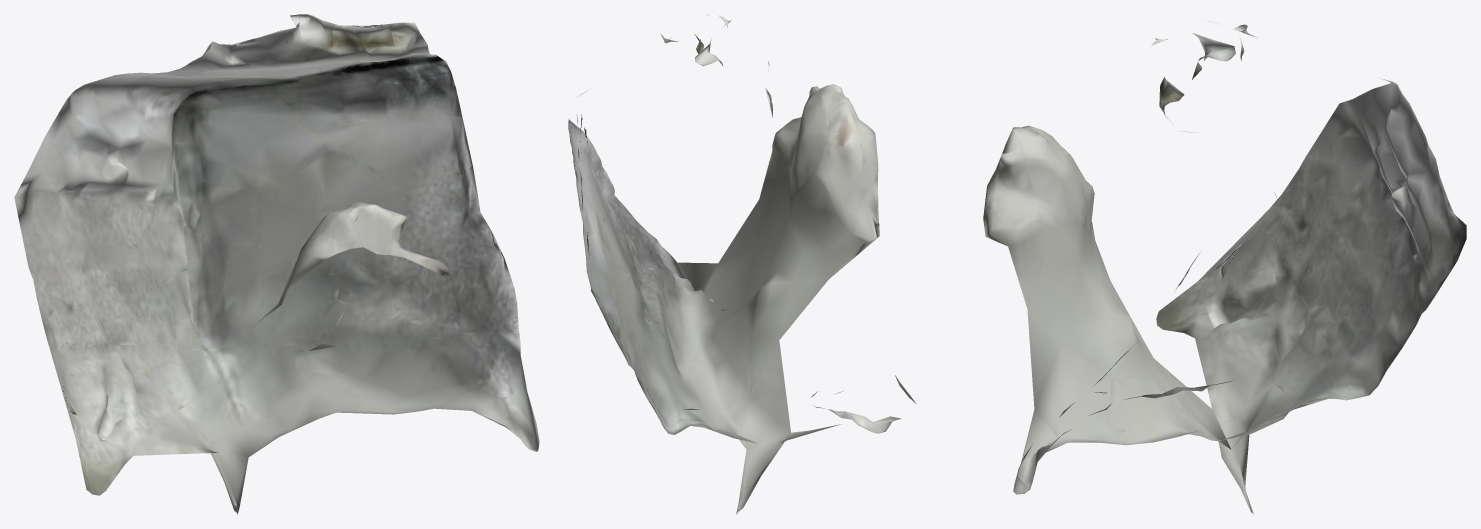
File: hall.glb
The picture shows the model from 3 angles, left to right: view 1: azimuth 30°, elevation 25°; view 2: azimuth 150°, elevation 25°; view 3: azimuth 270°, elevation 25°; orthographic projection. The views are drawn at different scales.
Size of the model in its own units: 1.07 by 1.3 by 1.12.
1 material, 1 textured.
